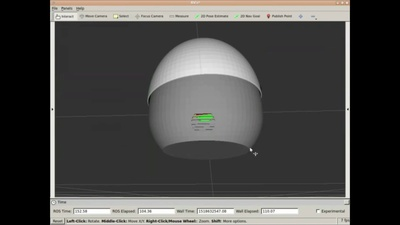mira_robot: (147, 37, 263, 160)
